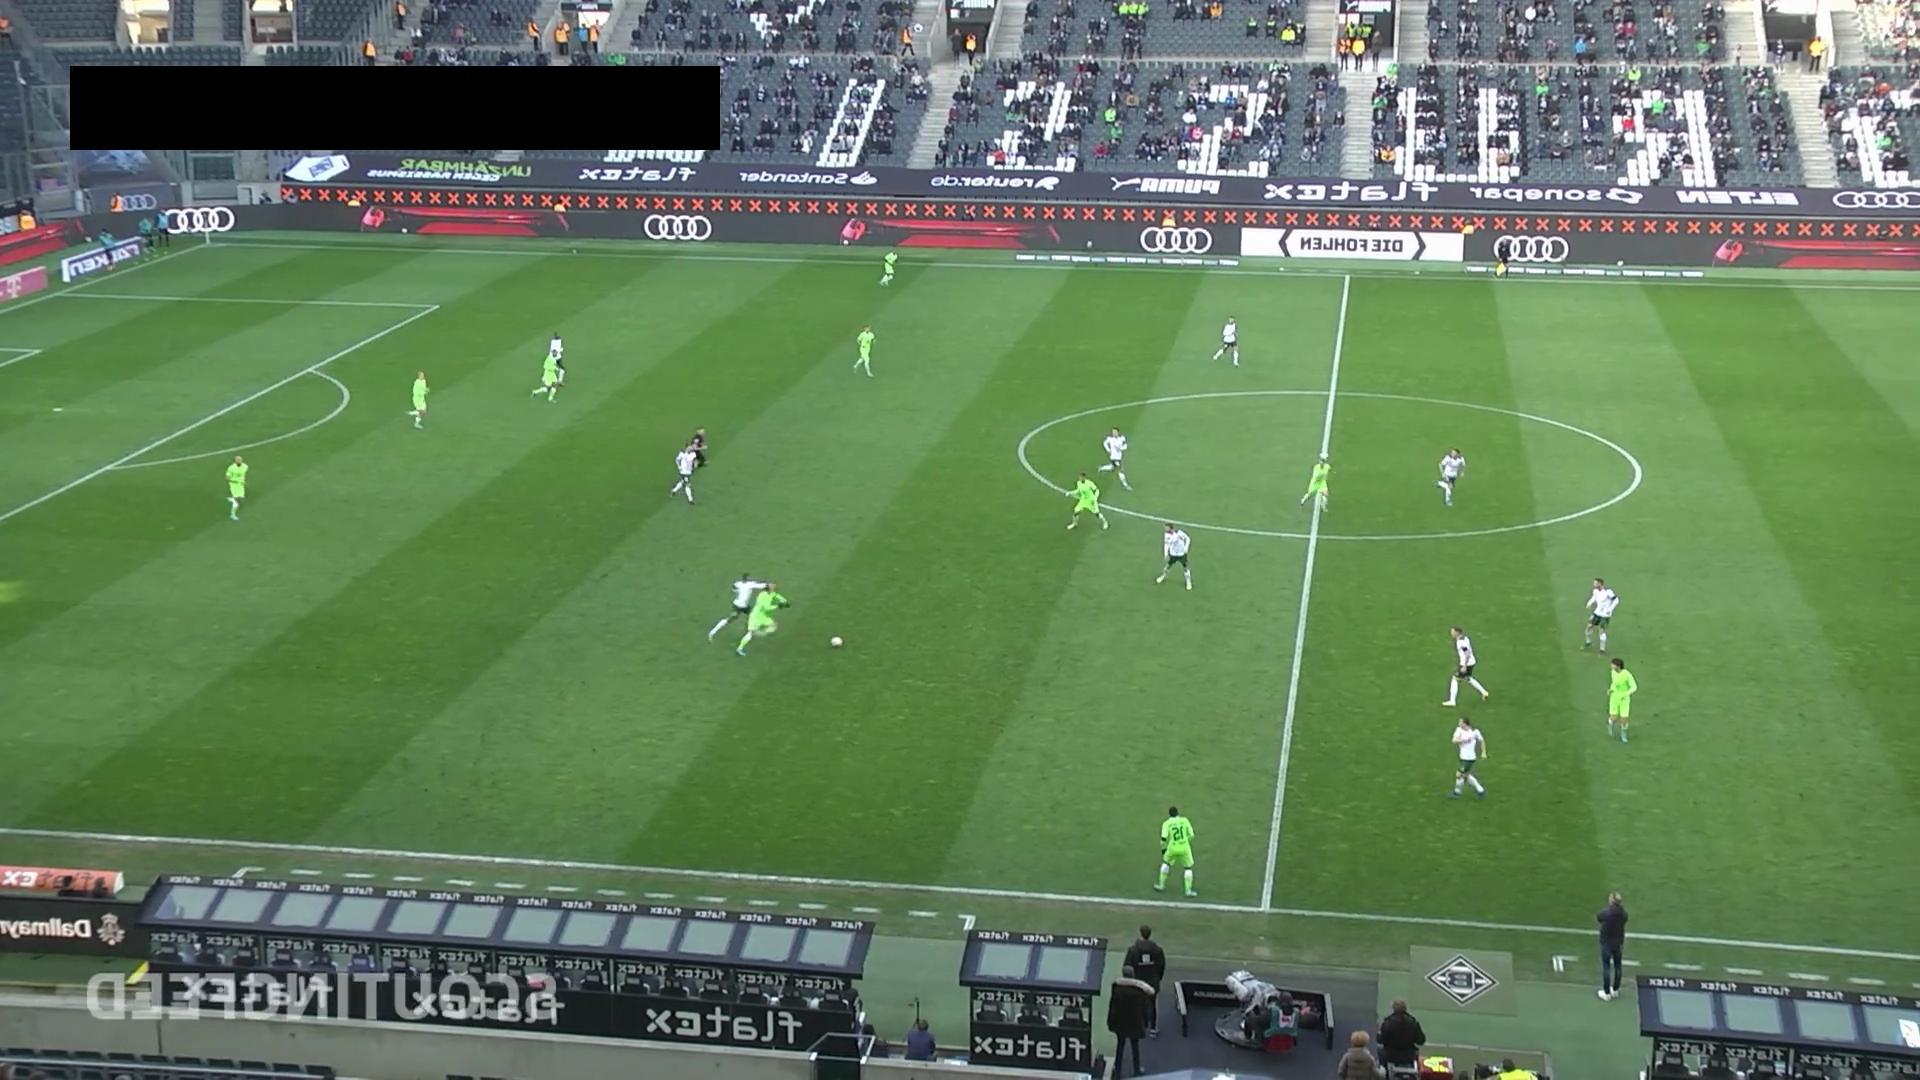ball: (830, 636, 844, 648)
player: (708, 572, 767, 647), (735, 580, 791, 657), (1152, 805, 1198, 897), (1440, 625, 1489, 707), (1449, 716, 1487, 800), (1581, 577, 1620, 654), (1064, 471, 1109, 531), (1153, 521, 1192, 590), (1607, 657, 1637, 743), (1099, 426, 1133, 492), (666, 443, 700, 506), (1299, 452, 1332, 512), (1436, 447, 1467, 507), (531, 351, 565, 403), (225, 454, 249, 521), (541, 332, 567, 387), (1212, 315, 1240, 365), (852, 323, 876, 377), (411, 370, 429, 430), (878, 247, 900, 289)
referee: (683, 427, 710, 480), (1492, 236, 1513, 280)
